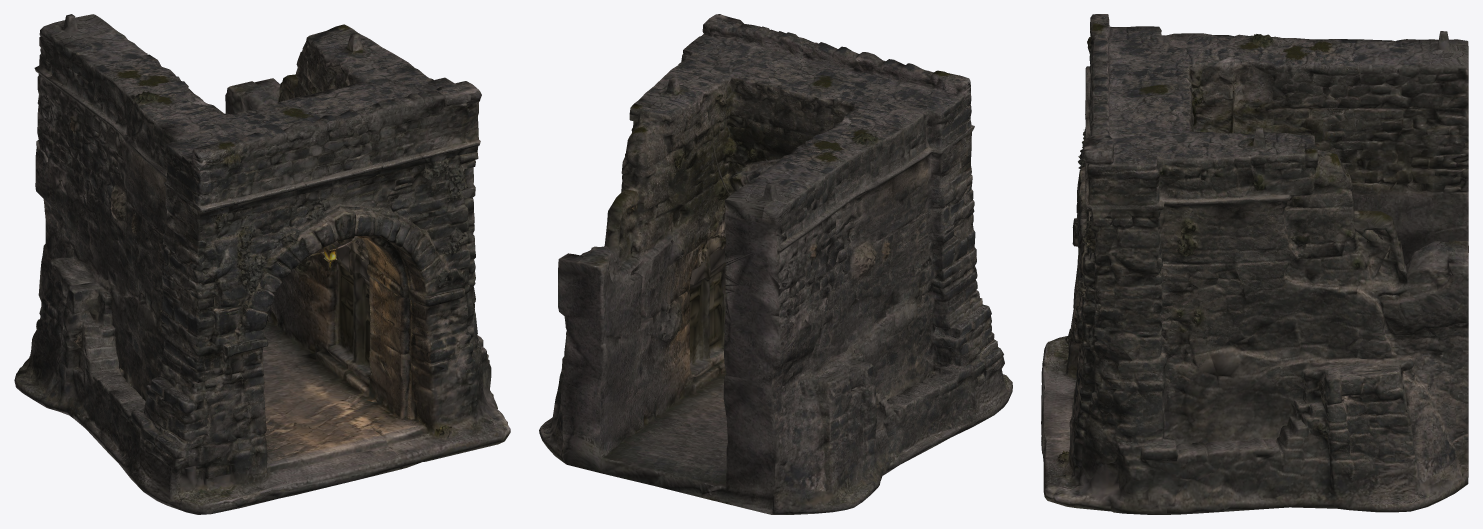
Rendered from fort_m_volcano_gate.glb.
3 renders of one model, left to right at view 1: azimuth 30°, elevation 25°; view 2: azimuth 150°, elevation 25°; view 3: azimuth 270°, elevation 25°, orthographic. The views are drawn at different scales.
Visible parts, largest first — view 1: fort_m_volcano_gate; view 2: fort_m_volcano_gate; view 3: fort_m_volcano_gate.
Part boxes in pixels (<box>): fort_m_volcano_gate: <box>14,14,510,514</box>; fort_m_volcano_gate: <box>539,14,1012,514</box>; fort_m_volcano_gate: <box>1041,14,1468,514</box>.
Bounding box in the file's own units: 1.85 × 1.71 × 1.9.
Materials: 1 (1 with a texture image).
